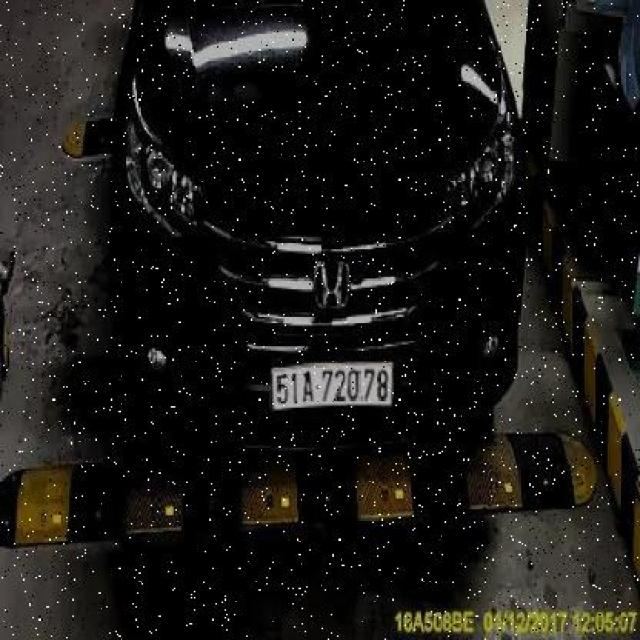number_plate: (270, 362, 395, 416)
